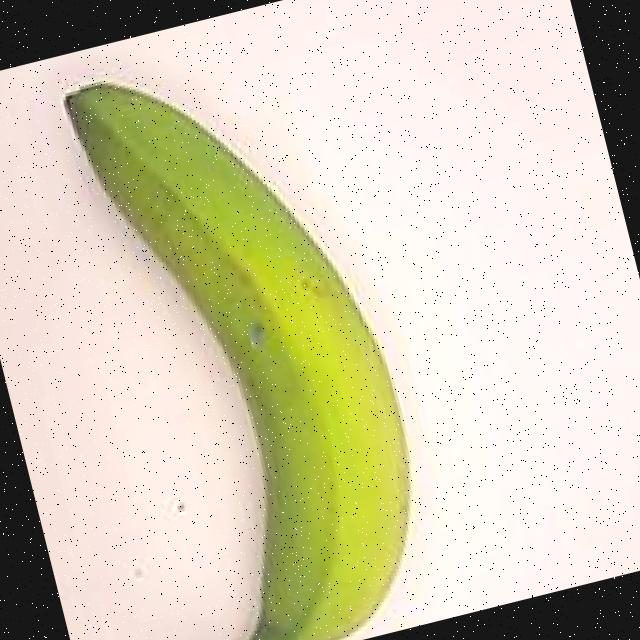Unripe: (0, 13, 468, 640)
